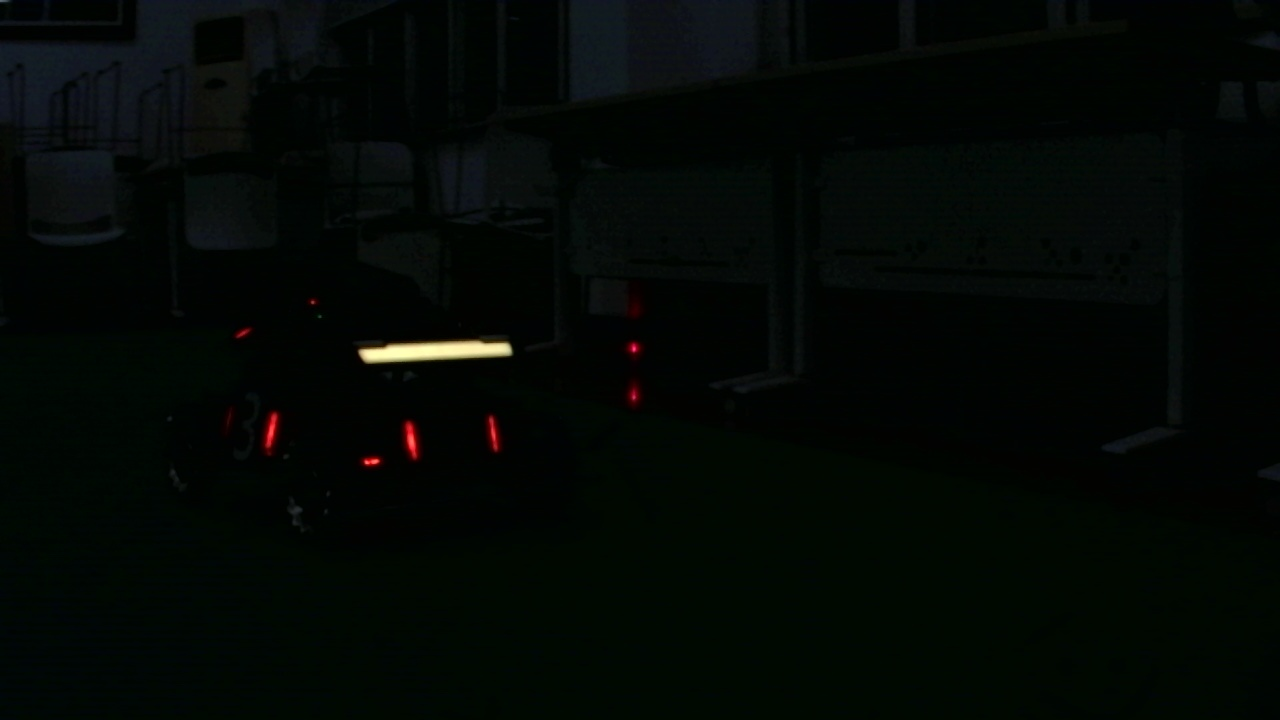lamp: (402, 417, 422, 468), (263, 406, 278, 455), (488, 413, 499, 461)
notpair1: (261, 408, 424, 465)
pair1: (402, 418, 501, 462)
